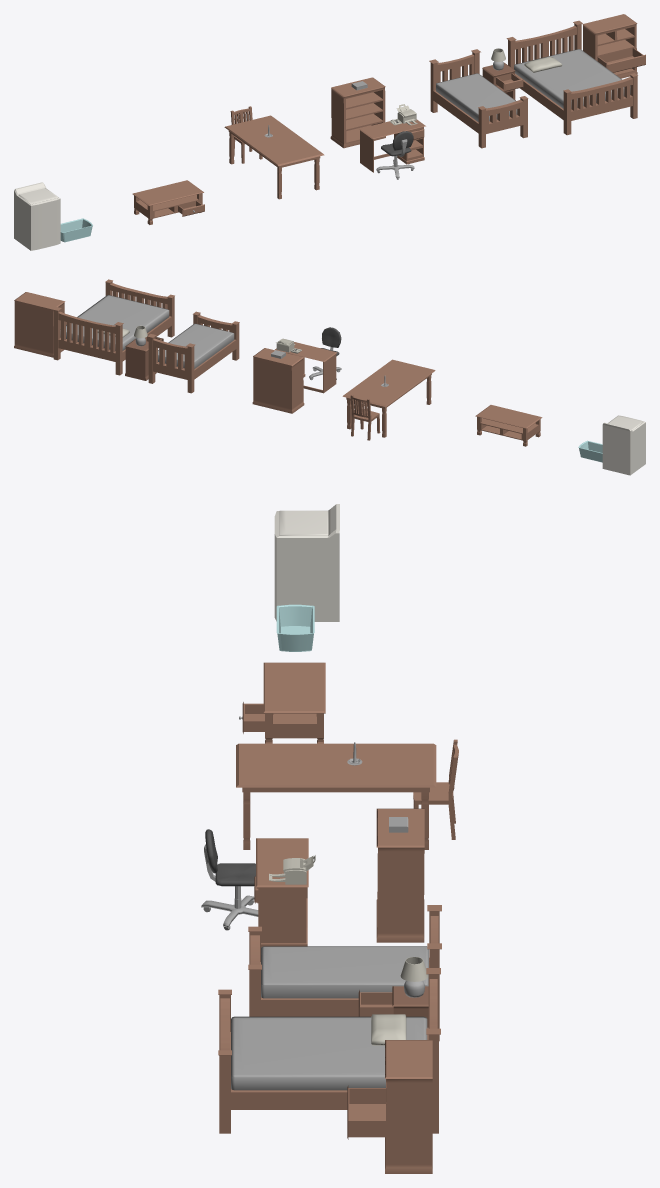
File: bedroom_Child_bed.fbx
3 renders of one model, top to bottom at view 1: azimuth 30°, elevation 25°; view 2: azimuth 150°, elevation 25°; view 3: azimuth 270°, elevation 25°, orthographic. The views are drawn at different scales.
Visible parts, largest first — view 1: CZ_QueenBed01, CZ_SingleBed01, CZ_DiningTable01, CZ_QueenMatress01, CZ_Bookshelf01, CZ_WashingMachineBase01, CZ_ChestofDrawers01, CZ_SignleMatress01, CZ_CoffeeTable01, CZ_DeskUnit01, CZ_OfficeChair01, CZ_Drawer01 (+6 smaller); view 2: CZ_QueenBed01, CZ_SingleBed01, CZ_Bookshelf01, CZ_DiningTable01, CZ_ChestofDrawers01, CZ_QueenMatress01, CZ_WashingMachineBase01, CZ_CoffeeTable01, CZ_SignleMatress01, CZ_DeskUnit01, CZ_BSDrawers01, CZ_DiningChair01 (+3 smaller); view 3: CZ_QueenMatress01, CZ_DiningTable01, CZ_SignleMatress01, CZ_ChestofDrawers01, CZ_Bookshelf01, CZ_QueenBed01, CZ_WashingMachineBase01, CZ_DeskUnit01, CZ_CoffeeTable01, CZ_SingleBed01, CZ_OfficeChair01, CZ_Drawer01 (+5 smaller).
Part boxes in pixels (bbox=[...]): CZ_QueenBed01: bbox=[506, 20, 637, 135]; CZ_SingleBed01: bbox=[429, 49, 528, 148]; CZ_DiningTable01: bbox=[224, 115, 324, 199]; CZ_QueenMatress01: bbox=[514, 49, 630, 108]; CZ_Bookshelf01: bbox=[330, 77, 385, 148]; CZ_WashingMachineBase01: bbox=[14, 182, 60, 250]; CZ_ChestofDrawers01: bbox=[582, 14, 637, 78]; CZ_SignleMatress01: bbox=[436, 73, 517, 121]; CZ_CoffeeTable01: bbox=[132, 180, 203, 224]; CZ_DeskUnit01: bbox=[359, 119, 425, 172]; CZ_OfficeChair01: bbox=[376, 131, 414, 179]; CZ_Drawer01: bbox=[597, 48, 645, 72]; CZ_QueenBed01: bbox=[52, 279, 174, 375]; CZ_SingleBed01: bbox=[147, 311, 239, 393]; CZ_Bookshelf01: bbox=[252, 348, 304, 413]; CZ_DiningTable01: bbox=[342, 359, 435, 437]; CZ_ChestofDrawers01: bbox=[14, 292, 65, 357]; CZ_QueenMatress01: bbox=[60, 295, 169, 350]; CZ_WashingMachineBase01: bbox=[602, 415, 645, 475]; CZ_CoffeeTable01: bbox=[475, 405, 542, 446]; CZ_SignleMatress01: bbox=[158, 323, 234, 368]; CZ_DeskUnit01: bbox=[275, 342, 337, 393]; CZ_BSDrawers01: bbox=[125, 339, 156, 380]; CZ_DiningChair01: bbox=[350, 394, 380, 440]; CZ_QueenMatress01: bbox=[231, 1016, 427, 1090]; CZ_DiningTable01: bbox=[236, 743, 436, 849]; CZ_SignleMatress01: bbox=[261, 946, 428, 998]; CZ_ChestofDrawers01: bbox=[385, 1040, 432, 1173]; CZ_Bookshelf01: bbox=[376, 808, 424, 942]; CZ_QueenBed01: bbox=[218, 968, 440, 1133]; CZ_WashingMachineBase01: bbox=[274, 504, 339, 621]; CZ_DeskUnit01: bbox=[256, 838, 308, 947]; CZ_CoffeeTable01: bbox=[263, 662, 325, 743]; CZ_SingleBed01: bbox=[248, 905, 441, 1041]; CZ_OfficeChair01: bbox=[201, 829, 258, 930]; CZ_Drawer01: bbox=[347, 1085, 385, 1139].
Size of the model in its own units: 14.35 by 1.19 by 2.7.
